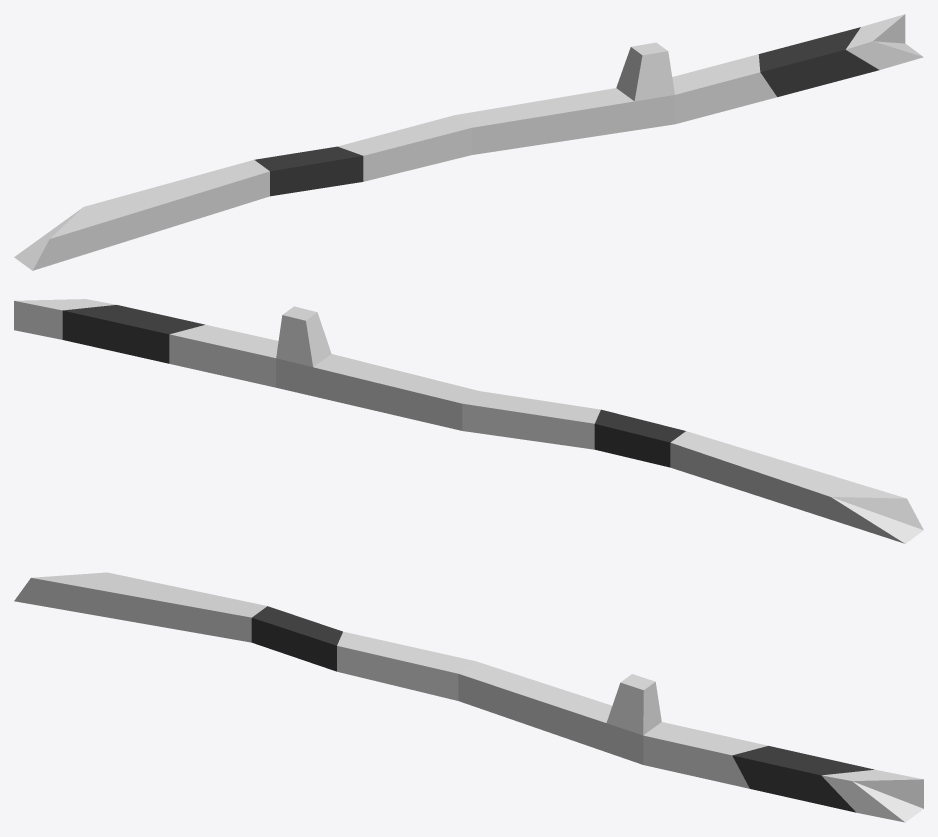
Rendered from Stick_B.fbx.
3 views of the same model, one above another, from view 1: azimuth 30°, elevation 25°; view 2: azimuth 150°, elevation 25°; view 3: azimuth 330°, elevation 25° (orthographic).
Parts seen in each view (by area): view 1: Stick B; view 2: Stick B; view 3: Stick B.
Boxes of the visible parts, x1,y1,x2,y2 form: Stick B: (14,14,923,270); Stick B: (14,299,923,543); Stick B: (14,572,923,822).
Size of the model in its own units: 173 by 13.36 by 9.25.
